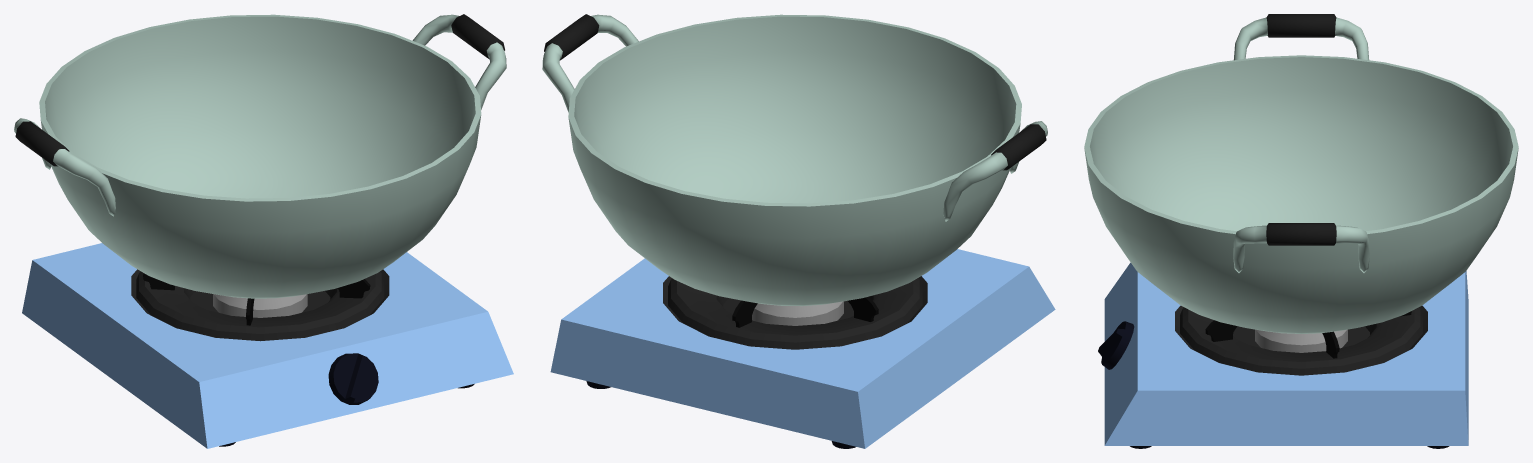
The model's file is Wok n Stove.FBX.
3 views of the same model, side by side, from view 1: azimuth 30°, elevation 25°; view 2: azimuth 150°, elevation 25°; view 3: azimuth 270°, elevation 25° (orthographic). The views are drawn at different scales.
Parts seen in each view (by area): view 1: Wok, stove; view 2: Wok, stove; view 3: Wok, stove.
Part boxes in pixels (x1,y1,x2,y2): Wok: (14,14,506,298); stove: (22,243,513,448); Wok: (542,14,1047,306); stove: (550,249,1055,448); Wok: (1084,14,1518,333); stove: (1098,262,1468,448).
Size of the model in its own units: 110 by 62.9 by 92.9.
